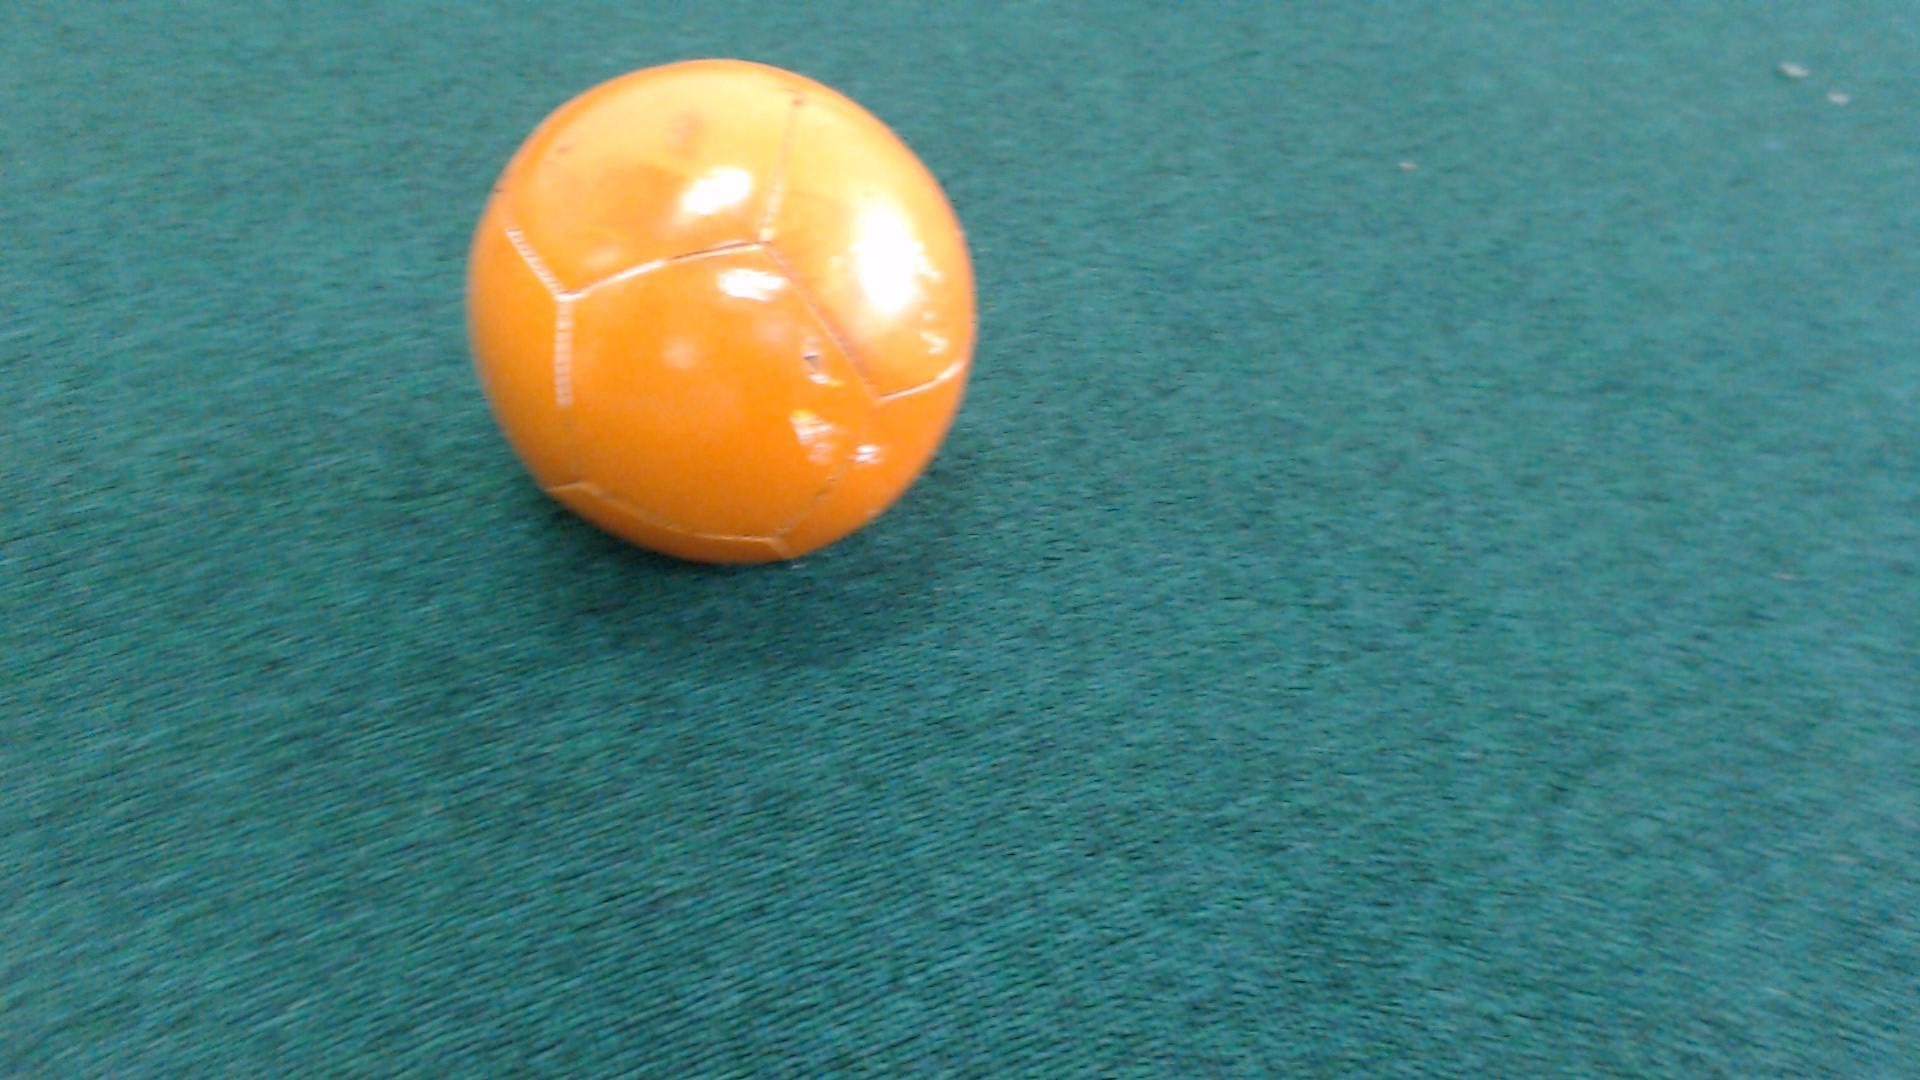bola: (426, 40, 1010, 597)
